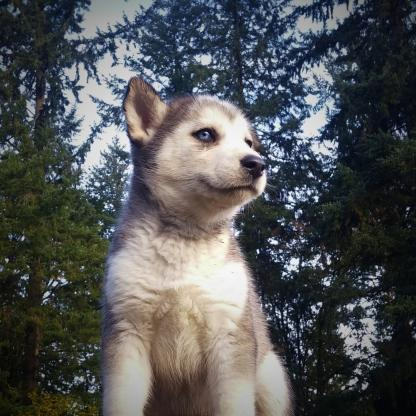husky: (101, 76, 292, 416)
